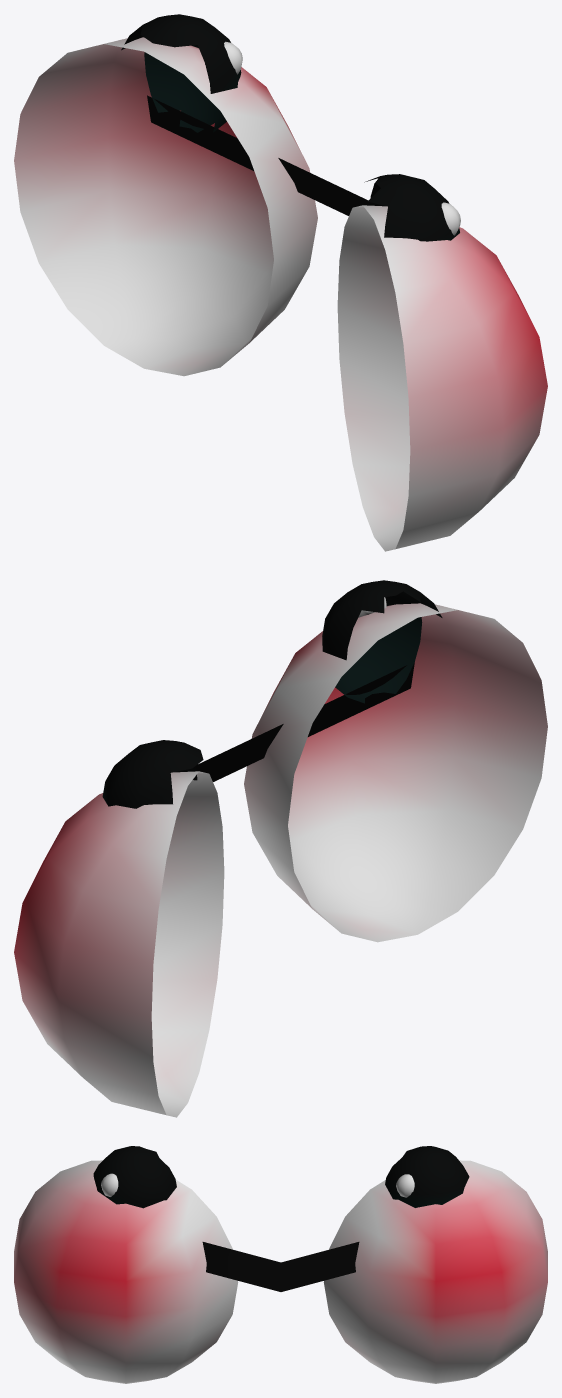
Rendered from FACE_CHUB.fbx.
The picture shows the model from 3 angles, top to bottom: view 1: azimuth 30°, elevation 25°; view 2: azimuth 150°, elevation 25°; view 3: azimuth 270°, elevation 25°; orthographic projection. The views are drawn at different scales.
Parts seen in each view (by area): view 1: FACE_CHUB; view 2: FACE_CHUB; view 3: FACE_CHUB.
Boxes of the visible parts, box(x1,y1,x2,y2) form: FACE_CHUB: box(14, 14, 547, 551); FACE_CHUB: box(14, 580, 547, 1117); FACE_CHUB: box(14, 1146, 547, 1383).
Bounding box in the file's own units: 0.3838 × 0.6404 × 1.33.
